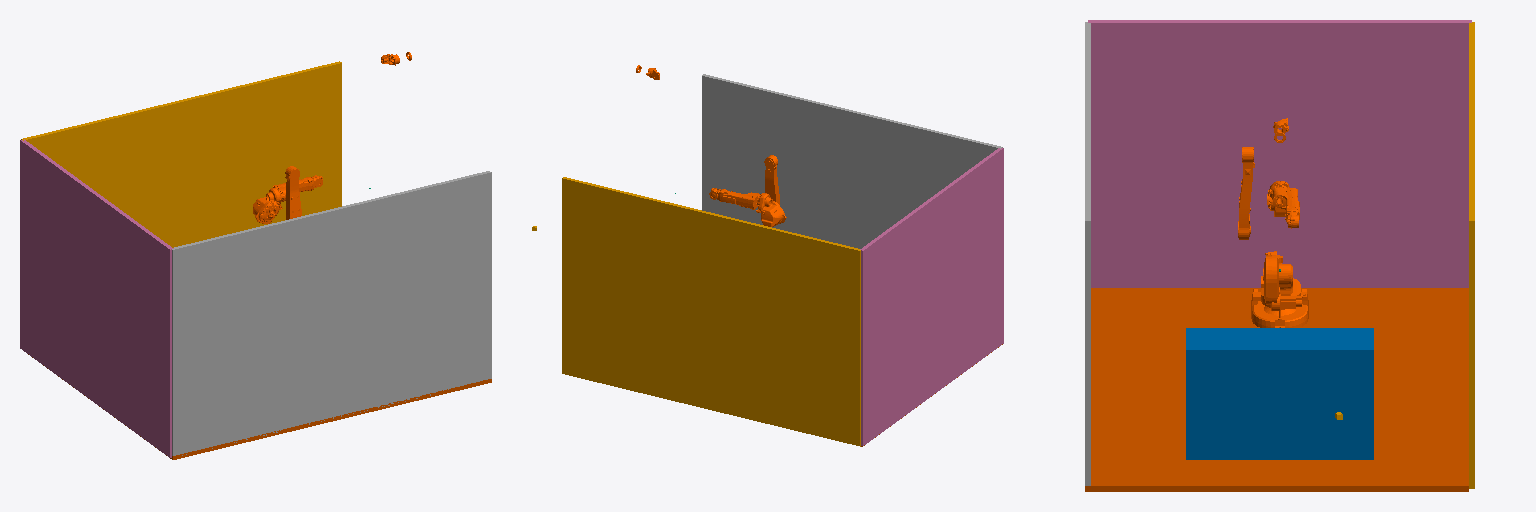
The robot description file, URDF, robot "irb1660_6_155":
<?xml version="1.0" ?>
<robot name="irb1660_6_155" xmlns:xacro="http://ros.org/wiki/xacro">
  <!-- robot link list -->
  <link name="base_link">
    <visual>
      <origin rpy="0 0 0" xyz="0 0 0" />
      <geometry>
        <mesh filename="package://abb_irb1660_support/meshes/base_link.stl" />
      </geometry>
      <material name="abb_orange">
        <color rgba="1 0.43 0 1" />
      </material>
    </visual>
    <collision>
      <geometry>
        <mesh filename="package://abb_irb1660_support/meshes/base_link.stl" />
      </geometry>
      <material name="yellow">
        <color rgba="0 1 1 1" />
      </material>
    </collision>
  </link>
  <link name="link_1">
    <visual>
      <origin rpy="0 0 0" xyz="0 0 0" />
      <geometry>
        <mesh filename="package://abb_irb1660_support/meshes/link_1.stl" />
      </geometry>
      <material name="abb_orange" />
    </visual>
    <collision>
      <origin rpy="0 0 0" xyz="0 0 0" />
      <geometry>
        <mesh filename="package://abb_irb1660_support/meshes/link_1.stl" />
      </geometry>
      <material name="yellow" />
    </collision>
  </link>
  <link name="link_2">
    <visual>
      <origin rpy="0 0 0" xyz="0 0 0" />
      <geometry>
        <mesh filename="package://abb_irb1660_support/meshes/link_2.stl" />
      </geometry>
      <material name="abb_orange" />
    </visual>
    <collision>
      <origin rpy="0 0 0" xyz="0 0 0" />
      <geometry>
        <mesh filename="package://abb_irb1660_support/meshes/link_2.stl" />
      </geometry>
      <material name="yellow" />
    </collision>
  </link>
  <link name="link_3">
    <visual>
      <origin rpy="0 0 0" xyz="0 0 0" />
      <geometry>
        <mesh filename="package://abb_irb1660_support/meshes/link_3.stl" />
      </geometry>
      <material name="abb_orange" />
    </visual>
    <collision>
      <origin rpy="0 0 0" xyz="0 0 0" />
      <geometry>
        <mesh filename="package://abb_irb1660_support/meshes/link_3.stl" />
      </geometry>
      <material name="yellow" />
    </collision>
  </link>
  <link name="link_4">
    <visual>
      <origin rpy="0 0 0" xyz="0 0 0" />
      <geometry>
        <mesh filename="package://abb_irb1660_support/meshes/link_4.stl" />
      </geometry>
      <material name="abb_orange" />
    </visual>
    <collision>
      <origin rpy="0 0 0" xyz="0 0 0" />
      <geometry>
        <mesh filename="package://abb_irb1660_support/meshes/link_4.stl" />
      </geometry>
      <material name="yellow" />
    </collision>
  </link>
  <link name="link_5">
    <visual>
      <origin rpy="0 0 0" xyz="0 0 0" />
      <geometry>
        <mesh filename="package://abb_irb1660_support/meshes/link_5.stl" />
      </geometry>
      <material name="abb_orange" />
    </visual>
    <collision>
      <origin rpy="0 0 0" xyz="0 0 0" />
      <geometry>
        <mesh filename="package://abb_irb1660_support/meshes/link_5.stl" />
      </geometry>
      <material name="yellow" />
    </collision>
  </link>
  <link name="link_6">
    <visual>
      <origin rpy="0 0 0" xyz="0 0 0" />
      <geometry>
        <mesh filename="package://abb_irb1660_support/meshes/link_6.stl" />
      </geometry>
      <material name="abb_orange" />
    </visual>
    <collision>
      <origin rpy="0 0 0" xyz="0 0 0" />
      <geometry>
        <mesh filename="package://abb_irb1660_support/meshes/link_6.stl" />
      </geometry>
      <material name="yellow" />
    </collision>
  </link>
  <!-- tool link list -->
  <link name="tool0">
    <visual>
      <origin rpy="0 0 0" xyz="0 0 0" />
      <geometry>
        <mesh filename="package://abb_irb1660_support/meshes/tools/tool_sks_FP8i-L.stl" />
      </geometry>
      <material name="abb_orange" />
    </visual>
    <collision>
      <origin rpy="0 0 0" xyz="0 0 0" />
      <geometry>
        <mesh filename="package://abb_irb1660_support/meshes/tools/tool_sks_FP8i-L.stl" />
      </geometry>
      <material name="yellow" />
    </collision>
  </link>
  <!-- camera link list -->
  <link name="camera_link">
    <visual>
      <origin rpy="0 0 0" xyz="0 0 0" />
      <geometry>
        <box size="0.05 0.05 0.05" />
      </geometry>
    </visual>
    <material name="Cyan">
      <color rgba="0 1.0 0 1.0" />
    </material>
  </link>
  <link name="camera_optical_frame">
    <visual>
      <origin rpy="0 0 0" xyz="0.0 0.0 0" />
      <geometry>
        <sphere radius="0.005" />
      </geometry>
    </visual>
  </link>
  <link name="led_link">
    <visual>
      <origin rpy="0 0 0" xyz="0 0 -0.057" />
      <geometry>
        <sphere radius="0.01" />
      </geometry>
    </visual>
  </link>
  <!-- end of link list -->
  <!-- robot joint list -->
  <joint name="joint_1" type="revolute">
    <origin rpy="0 0 0" xyz="0 0 0.124" />
    <parent link="base_link" />
    <child link="link_1" />
    <axis xyz="0 0 1" />
    <limit effort="0" lower="-3.14159" upper="3.14159" velocity="3.14159" />
    <calibration rising="0.131003" />
  </joint>
  <joint name="joint_2" type="revolute">
    <origin rpy="0 0 0" xyz="0.15 -0.107 0.3625" />
    <parent link="link_1" />
    <child link="link_2" />
    <axis xyz="0 1 0" />
    <limit effort="0" lower="-1.5708" upper="2.61799" velocity="3.14159" />
    <calibration rising="0.619914" />
  </joint>
  <joint name="joint_3" type="revolute">
    <origin rpy="0 0 0" xyz="0 0 0.7" />
    <parent link="link_2" />
    <child link="link_3" />
    <axis xyz="0 1 0" />
    <limit effort="0" lower="-4.15388" upper="1.37881" velocity="3.14159" />
    <calibration rising="-1.25284" />
  </joint>
  <joint name="joint_4" type="revolute">
    <origin rpy="0 0 0" xyz="0.128 0.107 0.108" />
    <parent link="link_3" />
    <child link="link_4" />
    <axis xyz="1 0 0" />
    <limit effort="0" lower="-3.05433" upper="3.05433" velocity="5.58505" />
    <calibration rising="0.0786591" />
  </joint>
  <joint name="joint_5" type="revolute">
    <origin rpy="0 0 0" xyz="0.55 0 0" />
    <parent link="link_4" />
    <child link="link_5" />
    <axis xyz="0 1 0" />
    <limit effort="0" lower="-2.0944" upper="2.0944" velocity="6.28319" />
    <calibration rising="-6.70289" />
  </joint>
  <joint name="joint_6" type="revolute">
    <origin rpy="0.0 0 0" xyz="0.135 0 0" />
    <parent link="link_5" />
    <child link="link_6" />
    <axis xyz="1 0 0" />
    <limit effort="0" lower="-6.98132" upper="6.98132" velocity="8.72665" />
    <calibration rising="13.9541" />
  </joint>
  <!-- tool joint list -->
  <joint name="joint_6-tool0" type="fixed">
    <parent link="link_6" />
    <child link="tool0" />
    <origin rpy="0 0 0" xyz="0 0 0" />
  </joint>
  <!-- camera joint list -->
  <joint name="camera_joint" type="fixed">
    <origin rpy="0 0 -2.7488909" xyz="3.02 0.50 0.50" />
    <parent link="base_link" />
    <child link="camera_link" />
  </joint>
  <joint name="camera_optical_joint" type="fixed">
    <origin rpy="0 0 0" xyz="0.025 0 0" />
    <parent link="camera_link" />
    <child link="camera_optical_frame" />
  </joint>
  <joint name="led_joint" type="fixed">
    <origin rpy="0 0 0" xyz="0.463 0.0 -0.120" />
    <parent link="tool0" />
    <child link="led_link" />
  </joint>
  <!-- end of joint list -->
  <!-- object placement -->
  <!-- object link list -->
  <link name="front_of_cel_link" />
  <link name="external_axis_object">
    <visual>
      <origin rpy="0 0 0" xyz="0 0 0.525" />
      <geometry>
        <box size="0.45 1.60 1.05" />
      </geometry>
    </visual>
    <material name="Blue">
      <color rgba="0 0 1.0 1.0" />
    </material>
    <collision>
      <origin rpy="0 0 0" xyz="0 0 0.525" />
      <geometry>
        <box size="0.45 1.60 1.05" />
      </geometry>
      <material name="Blue" />
    </collision>
  </link>
  <link name="ground_object">
    <visual>
      <origin rpy="1.5708 0 0" xyz="0 -0.025 0" />
      <geometry>
        <box size="4 0.05 3.25" />
      </geometry>
    </visual>
    <material name="Cyan">
      <color rgba="0 255 0 0.3" />
    </material>
    <collision>
      <origin rpy="1.5708  0 0" xyz="0 -0.025 0" />
      <geometry>
        <box size="4 0.05 3.25" />
      </geometry>
      <material name="Cyan">
        <color rgba="0 255 0 0.3" />
      </material>
    </collision>
  </link>
  <link name="wall_back_object">
    <visual>
      <origin rpy="0 0 1.5708" xyz="0 0 1.25" />
      <geometry>
        <box size="3.25 0.05 2.5" />
      </geometry>
    </visual>
    <material name="Cyan">
      <color rgba="0 255 0 0.3" />
    </material>
    <collision>
      <origin rpy="0 0 1.5708" xyz="0 0 1.25" />
      <geometry>
        <box size="3.25 0.05 2.5" />
      </geometry>
      <material name="Cyan">
        <color rgba="0 255 0 0.3" />
      </material>
    </collision>
  </link>
  <link name="wall_left_object">
    <visual>
      <origin rpy="0 0 0" xyz="-2 0 1.25" />
      <geometry>
        <box size="4 0.05 2.5" />
      </geometry>
    </visual>
    <material name="Cyan">
      <color rgba="0 255 0 0.3" />
    </material>
    <collision>
      <origin rpy="0 0 0" xyz="-2 0 1.25" />
      <geometry>
        <box size="4 0.05 2.5" />
      </geometry>
      <material name="Cyan">
        <color rgba="0 255 0 0.3" />
      </material>
    </collision>
  </link>
  <link name="wall_right_object">
    <visual>
      <origin rpy="0 0 0" xyz="-2 0 1.25" />
      <geometry>
        <box size="4 0.05 2.5" />
      </geometry>
    </visual>
    <material name="Cyan">
      <color rgba="0 255 0 0.3" />
    </material>
    <collision>
      <origin rpy="0 0 0" xyz="-2 0 1.25" />
      <geometry>
        <box size="4 0.05 2.5" />
      </geometry>
      <material name="Cyan">
        <color rgba="0 255 0 0.3" />
      </material>
    </collision>
  </link>
  <!--object joint list -->
  <joint name="front_of_cel_joint" type="fixed">
    <origin rpy="0 0 0" xyz="2 0 -0.655" />
    <parent link="base_link" />
    <child link="front_of_cel_link" />
  </joint>
  <joint name="external_axis_joint" type="fixed">
    <origin rpy="0 0 0" xyz="-0.75 0 0" />
    <parent link="front_of_cel_link" />
    <child link="external_axis_object" />
  </joint>
  <joint name="ground_joint" type="fixed">
    <origin rpy="0 0 0" xyz="-2 0 0" />
    <parent link="front_of_cel_link" />
    <child link="ground_object" />
  </joint>
  <joint name="front_to_back_wall_joint" type="fixed">
    <origin rpy="0 0 0" xyz="-4 0 0" />
    <parent link="front_of_cel_link" />
    <child link="wall_back_object" />
  </joint>
  <joint name="front_to_left_wall_joint" type="fixed">
    <origin rpy="0 0 0" xyz="0 -1.625 0" />
    <parent link="front_of_cel_link" />
    <child link="wall_left_object" />
  </joint>
  <joint name="front_to_right_wall_joint" type="fixed">
    <origin rpy="0 0 0" xyz="0 1.625 0" />
    <parent link="front_of_cel_link" />
    <child link="wall_right_object" />
  </joint>
  <!--end of object placement -->
</robot>

--- What the picture shows (computed from the rendered views, not written in the file) ---
3 views of the same robot in one strip: view 1: azimuth 30°, elevation 25°; view 2: azimuth 150°, elevation 25°; view 3: azimuth 270°, elevation 25° (orthographic).
Model irb1660_6_155 with 17 links and 16 joints (6 revolute, 10 fixed), rooted at base_link, posed all joints at 0.
Visible links, largest first — view 1: wall_left_object, wall_right_object, wall_back_object, ground_object, link_3, link_2; view 2: wall_right_object, wall_left_object, wall_back_object, link_3, link_4, link_2; view 3: wall_back_object, ground_object, external_axis_object, wall_right_object, wall_left_object, link_1, base_link, link_2, link_4.
Boxes of the visible links, left/top/right/bottom form: wall_left_object: left=172, top=171, right=491, bottom=455; wall_right_object: left=21, top=61, right=341, bottom=247; wall_back_object: left=20, top=139, right=173, bottom=457; ground_object: left=28, top=354, right=491, bottom=459; link_3: left=253, top=188, right=283, bottom=223; link_2: left=285, top=166, right=301, bottom=219; wall_right_object: left=562, top=177, right=860, bottom=446; wall_left_object: left=702, top=74, right=1002, bottom=248; wall_back_object: left=860, top=148, right=1003, bottom=445; link_3: left=756, top=193, right=786, bottom=226; link_4: left=709, top=188, right=759, bottom=209; link_2: left=764, top=155, right=779, bottom=204; wall_back_object: left=1088, top=20, right=1471, bottom=287; ground_object: left=1085, top=288, right=1468, bottom=491; external_axis_object: left=1186, top=328, right=1373, bottom=459; wall_right_object: left=1469, top=22, right=1474, bottom=488; wall_left_object: left=1085, top=22, right=1090, bottom=485; link_1: left=1261, top=251, right=1302, bottom=310; base_link: left=1251, top=289, right=1308, bottom=327; link_2: left=1238, top=147, right=1254, bottom=239; link_4: left=1270, top=187, right=1299, bottom=228.
Bounding box of the posed robot: 5.08 × 3.3 × 3.33 m (x, y, z).
Meshes: 8 distinct files referenced, 7 mesh visuals loaded (4 binary STL, 3 ASCII STL); not drawn: 1 (reference not matched to a file when rendering).